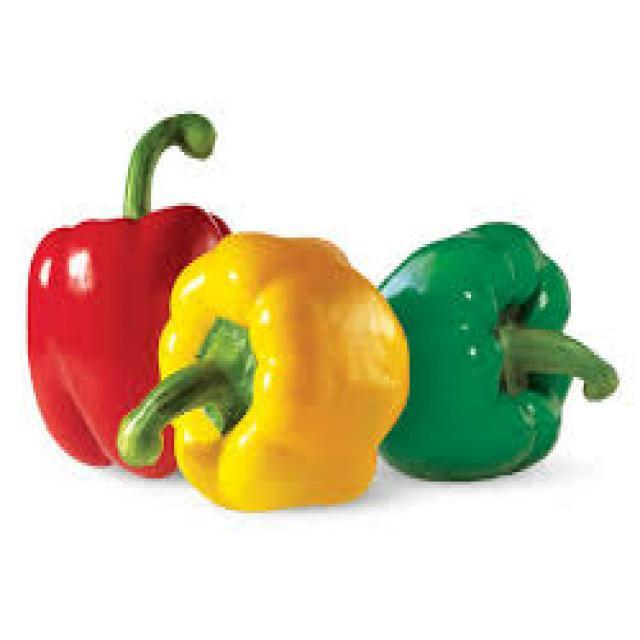Pepper: (114, 232, 411, 515), (378, 222, 619, 484), (26, 205, 231, 479)
